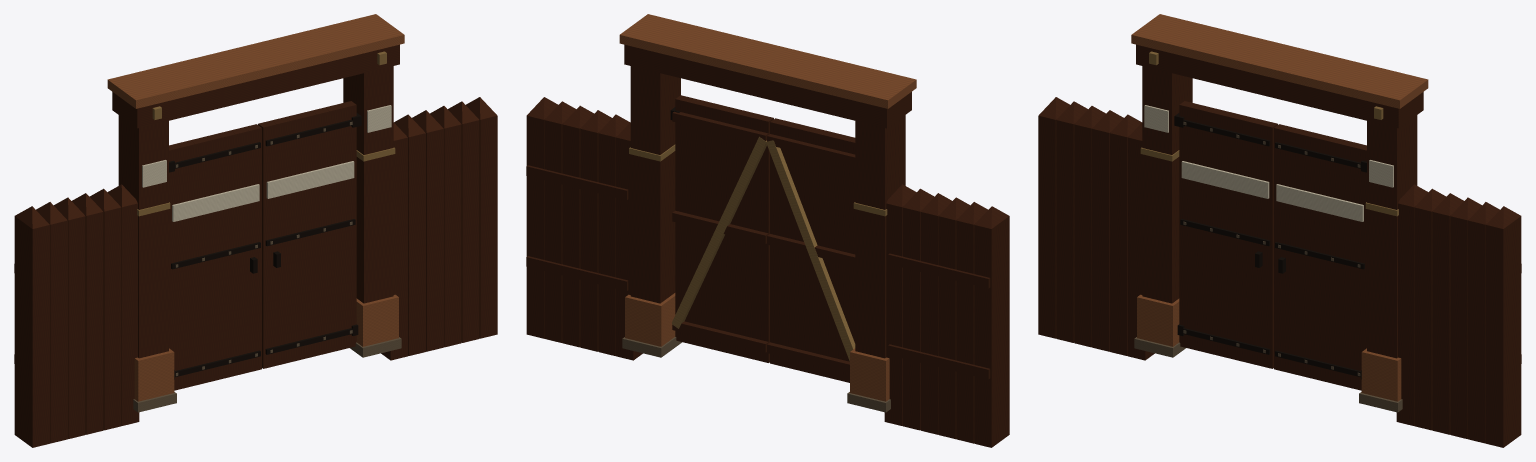
Rendered from Berber_PalisadeGate_Age2.fbx.
The picture shows the model from 3 angles, left to right: view 1: azimuth 30°, elevation 25°; view 2: azimuth 150°, elevation 25°; view 3: azimuth 330°, elevation 25°; orthographic projection.
Visible parts, largest first — view 1: lintel_earth_weather_cap, left_palisade_stake_5, right_palm_gatepost, left_palm_gatepost, mortised_palm_lintel, right_palisade_stake_4, left_palisade_stake_1, right_palisade_stake_5, left_palisade_stake_2, right_palisade_stake_2, left_palisade_stake_4, left_palisade_stake_3 (+32 smaller); view 2: right_palm_gatepost, lintel_earth_weather_cap, left_palm_gatepost, left_palisade_stake_5, mortised_palm_lintel, right_palisade_stake_5, left_palisade_stake_2, left_palisade_stake_1, right_palisade_stake_2, left_palisade_stake_4, right_palisade_stake_3, right_palisade_stake_4 (+34 smaller); view 3: lintel_earth_weather_cap, right_palisade_stake_5, left_palm_gatepost, right_palm_gatepost, mortised_palm_lintel, left_palisade_stake_4, left_palisade_stake_5, right_palisade_stake_1, right_palisade_stake_2, left_palisade_stake_2, right_palisade_stake_4, left_palisade_stake_1 (+32 smaller).
Part boxes in pixels (left/top/right/bottom): lintel_earth_weather_cap: left=107, top=14, right=404, bottom=108; left_palisade_stake_5: left=14, top=206, right=49, bottom=447; right_palm_gatepost: left=343, top=66, right=393, bottom=303; left_palm_gatepost: left=118, top=115, right=168, bottom=358; mortised_palm_lintel: left=112, top=44, right=399, bottom=128; right_palisade_stake_4: left=447, top=101, right=479, bottom=342; left_palisade_stake_1: left=89, top=188, right=121, bottom=430; right_palisade_stake_5: left=466, top=97, right=497, bottom=338; left_palisade_stake_2: left=72, top=193, right=103, bottom=434; right_palisade_stake_2: left=412, top=110, right=443, bottom=351; left_palisade_stake_4: left=36, top=202, right=67, bottom=443; left_palisade_stake_3: left=54, top=197, right=85, bottom=438; right_palm_gatepost: left=630, top=66, right=680, bottom=303; lintel_earth_weather_cap: left=619, top=14, right=916, bottom=108; left_palm_gatepost: left=855, top=115, right=905, bottom=358; left_palisade_stake_5: left=974, top=206, right=1009, bottom=447; mortised_palm_lintel: left=624, top=44, right=911, bottom=128; right_palisade_stake_5: left=526, top=97, right=558, bottom=338; left_palisade_stake_2: left=920, top=193, right=952, bottom=434; left_palisade_stake_1: left=902, top=188, right=934, bottom=430; right_palisade_stake_2: left=580, top=110, right=611, bottom=351; left_palisade_stake_4: left=956, top=202, right=987, bottom=443; right_palisade_stake_3: left=562, top=105, right=594, bottom=347; right_palisade_stake_4: left=544, top=101, right=576, bottom=342; lintel_earth_weather_cap: left=1131, top=14, right=1428, bottom=108; right_palisade_stake_5: left=1486, top=206, right=1521, bottom=447; left_palm_gatepost: left=1142, top=66, right=1192, bottom=303; right_palm_gatepost: left=1367, top=115, right=1417, bottom=358; mortised_palm_lintel: left=1136, top=44, right=1423, bottom=128; left_palisade_stake_4: left=1056, top=101, right=1088, bottom=342; left_palisade_stake_5: left=1038, top=97, right=1069, bottom=338; right_palisade_stake_1: left=1414, top=188, right=1446, bottom=430; right_palisade_stake_2: left=1432, top=193, right=1463, bottom=434; left_palisade_stake_2: left=1092, top=110, right=1123, bottom=351; right_palisade_stake_4: left=1468, top=202, right=1499, bottom=443; left_palisade_stake_1: left=1110, top=114, right=1141, bottom=355.
Bounding box in the file's own units: 1018 × 685 × 110.
6 materials, 6 textured.
